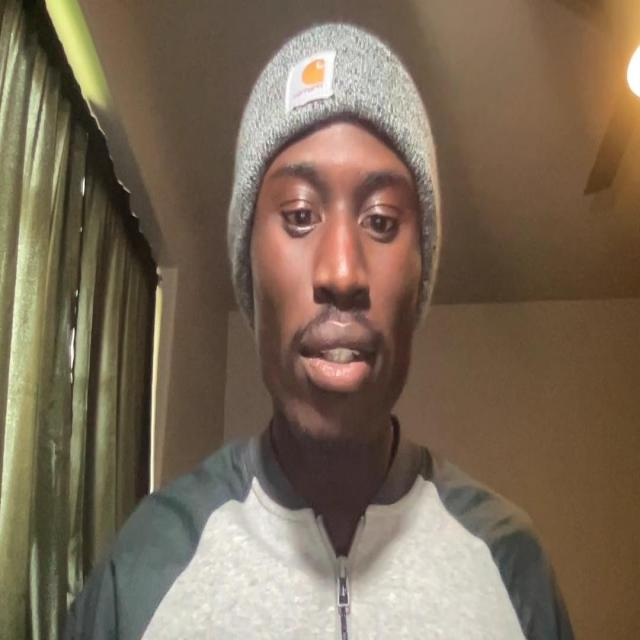face: (247, 111, 433, 456)
